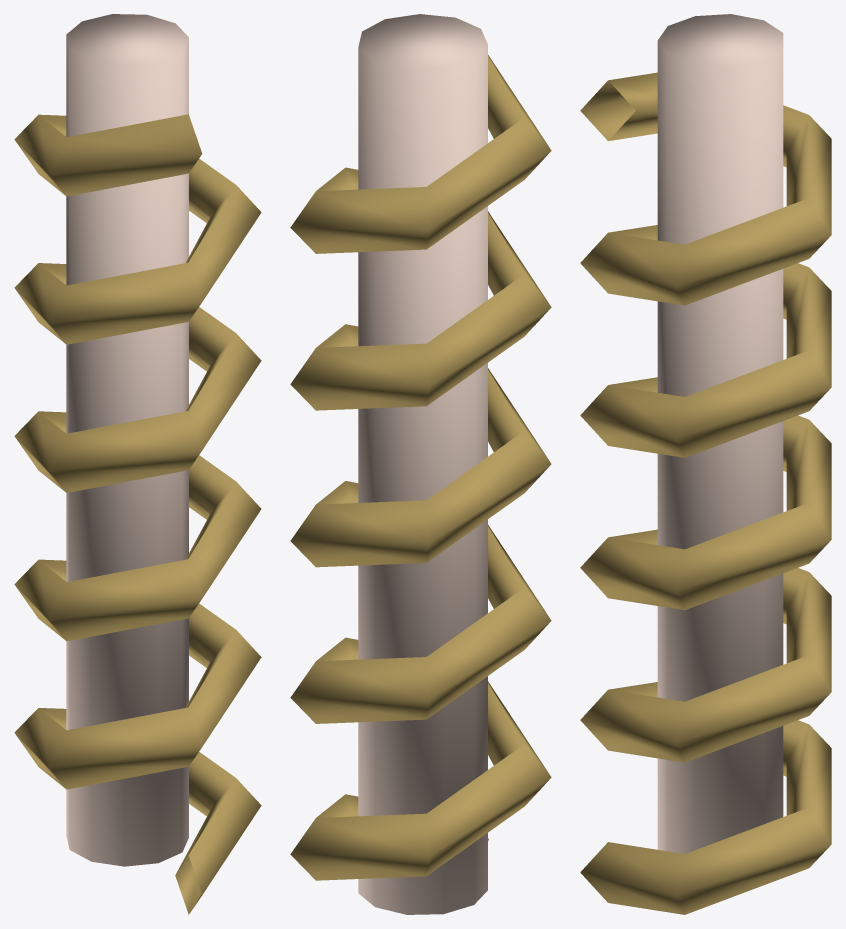
The model's file is Scrappy_coil.fbx.
3 views of the same model, side by side, from view 1: azimuth 30°, elevation 25°; view 2: azimuth 150°, elevation 25°; view 3: azimuth 270°, elevation 25° (orthographic). The views are drawn at different scales.
Visible parts, largest first — view 1: ScrappyCoil; view 2: ScrappyCoil; view 3: ScrappyCoil.
Part boxes in pixels (x1,y1,x2,y2): ScrappyCoil: (14, 14, 261, 914); ScrappyCoil: (290, 14, 551, 914); ScrappyCoil: (580, 14, 831, 914).
Bounding box in the file's own units: 0.3552 × 0.3552 × 1.34.
